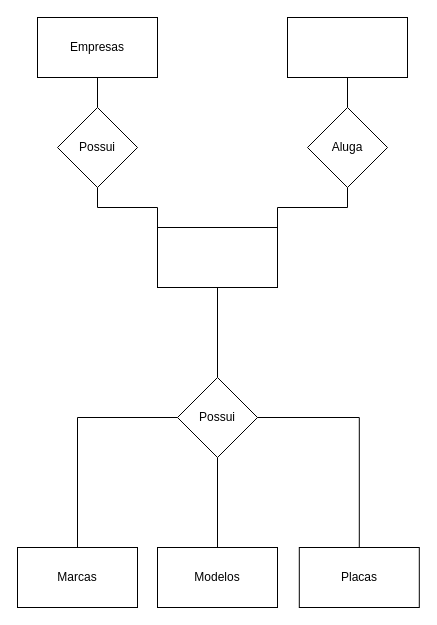
The diagram is 437 pixels wide and 625 high, and some of its shapes have lost their labels. Here are the shapes that lost their labels. From the top down, the box of each, then its label:
(286, 16, 408, 78): Clientes
(156, 226, 278, 288): Veiculos
